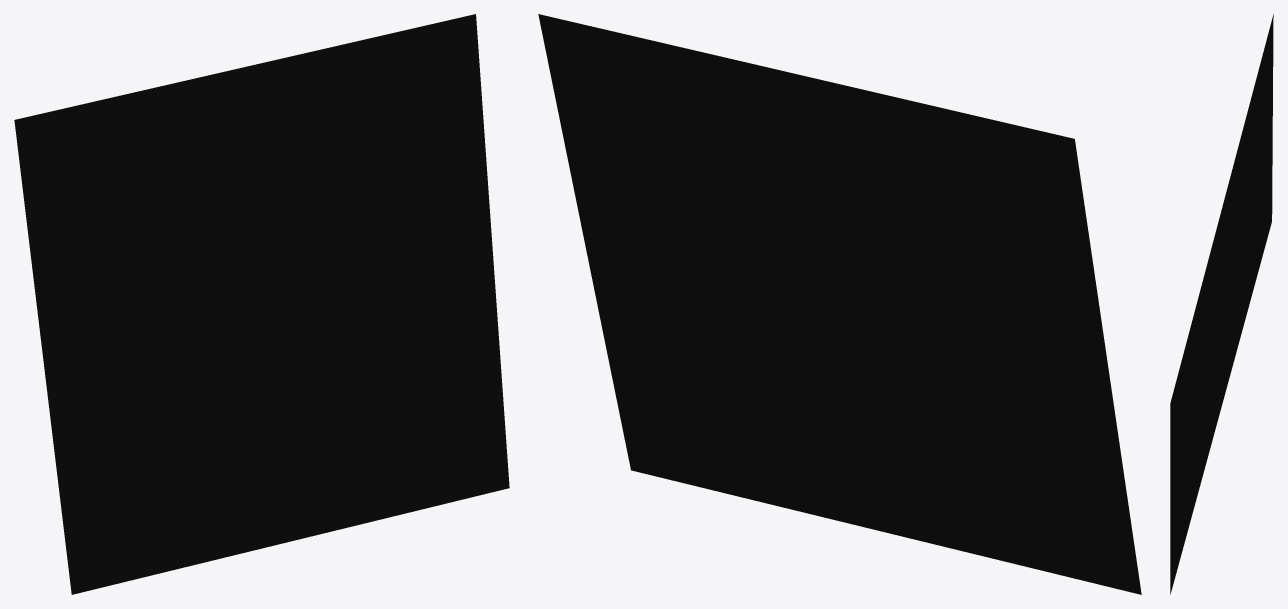
The picture shows the model from 3 angles, left to right: view 1: azimuth 30°, elevation 25°; view 2: azimuth 150°, elevation 25°; view 3: azimuth 270°, elevation 25°; orthographic projection. The views are drawn at different scales.
Parts seen in each view (by area): view 1: 2; view 2: 2; view 3: 2.
Boxes of the visible parts, <box> form: 2: <box>14,14,509,594</box>; 2: <box>538,14,1141,594</box>; 2: <box>1170,14,1273,594</box>.
Bounding box in the file's own units: 5918 × 5314 × 1276.
Materials: 1 (1 with a texture image).
